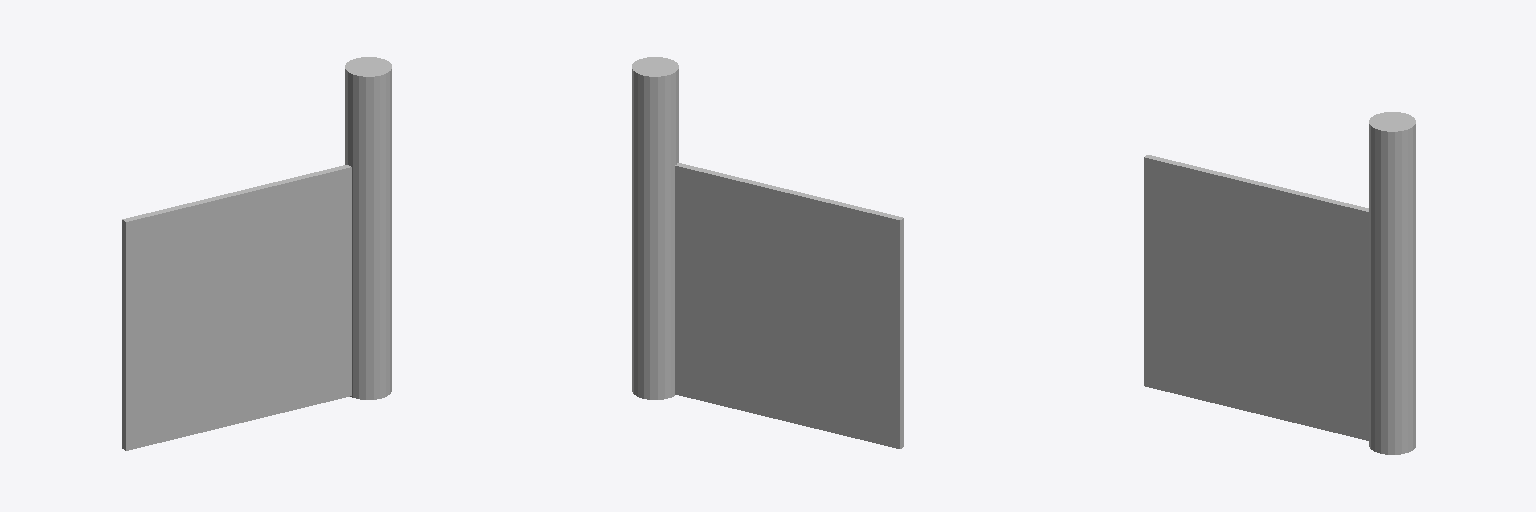
File: walldouble5.obj
3 renders of one model, left to right at view 1: azimuth 30°, elevation 25°; view 2: azimuth 150°, elevation 25°; view 3: azimuth 330°, elevation 25°, orthographic.
Visible parts, largest first — view 1: walldouble5; view 2: walldouble5; view 3: walldouble5.
Boxes of the visible parts, x1,y1,x2,y2 form: walldouble5: [122, 57, 391, 450]; walldouble5: [632, 57, 903, 448]; walldouble5: [1144, 112, 1415, 454].
Size of the model in its own units: 21.23 by 24.63 by 3.28.